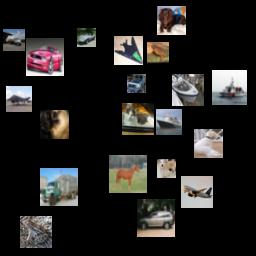airplane: (181, 176, 213, 208), (114, 36, 143, 65), (6, 86, 32, 112)
automobile: (26, 38, 64, 76), (137, 199, 175, 237), (127, 74, 146, 93), (77, 28, 96, 47)
cat: (122, 103, 154, 135)
dog: (157, 6, 186, 35), (40, 110, 69, 139), (194, 129, 223, 158), (157, 159, 176, 178)
frog: (20, 216, 52, 248), (147, 42, 169, 64)
ship: (212, 70, 247, 105), (172, 74, 204, 106), (156, 109, 182, 135)
truck: (40, 168, 78, 206), (3, 29, 25, 51)
